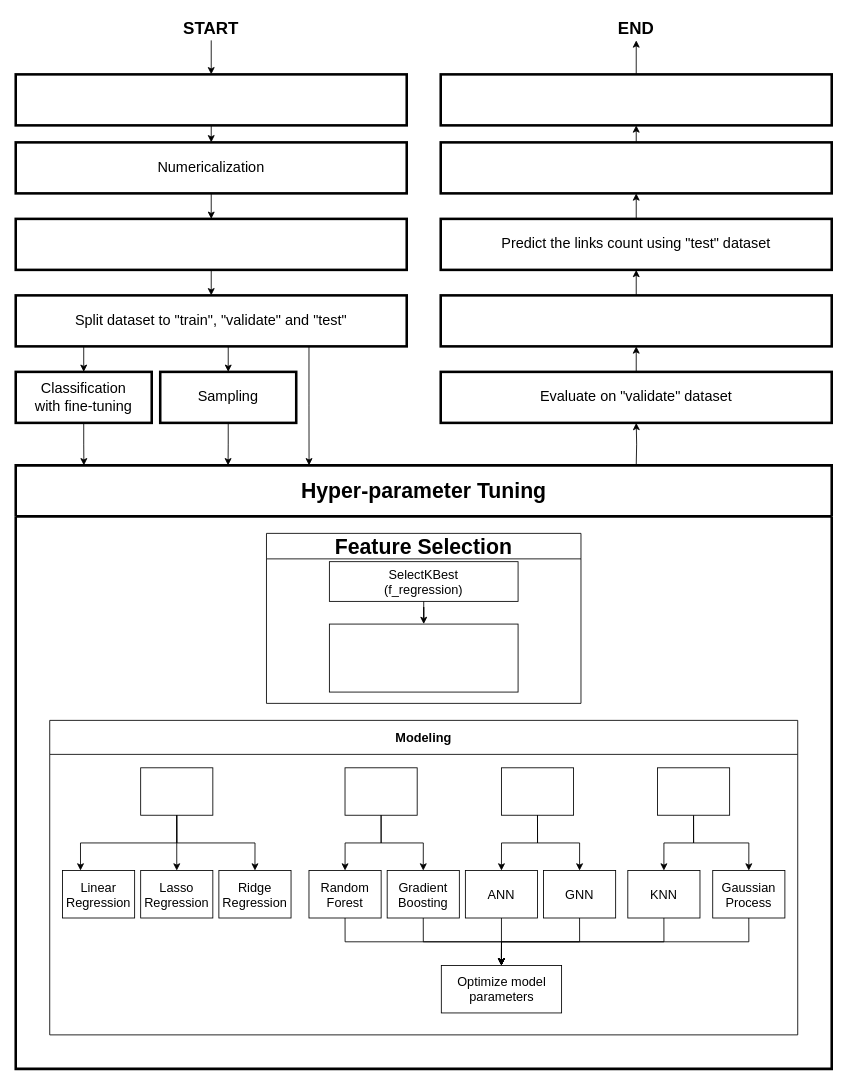
Some shapes in this 847 by 1085 pixel diagram are drawn without their labels. The centre of each missing label's shape, as x and y in pixels:
Calculate the error metrics: the point at 636,167
Compare the performance: the point at 636,99
Import data from MATSim results and generate features: the point at 211,99
Linear models: the point at 176,791
Neural Network models: the point at 537,791
Normalization: the point at 211,244
Optimize K: Number of selected feature: the point at 423,657
Others: the point at 693,791
Pick the best model: the point at 636,320
Tree-Based models: the point at 380,791
